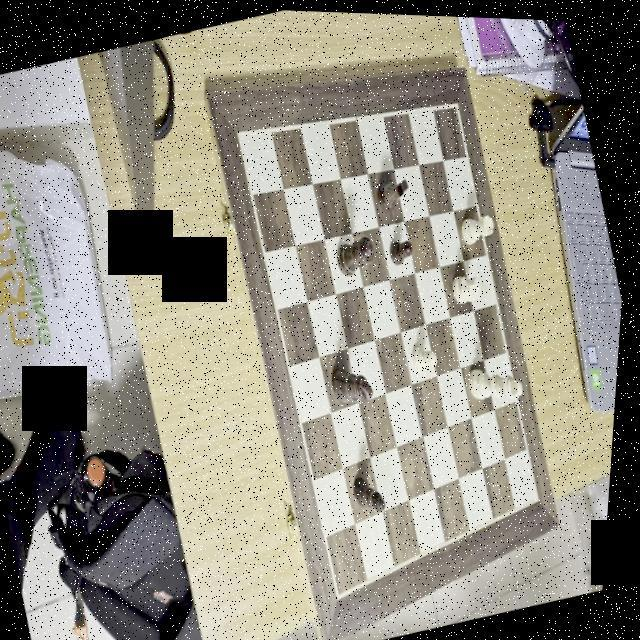chess-table-corners: (232, 116, 250, 146), (448, 86, 466, 113), (338, 579, 356, 604), (536, 481, 552, 505)
